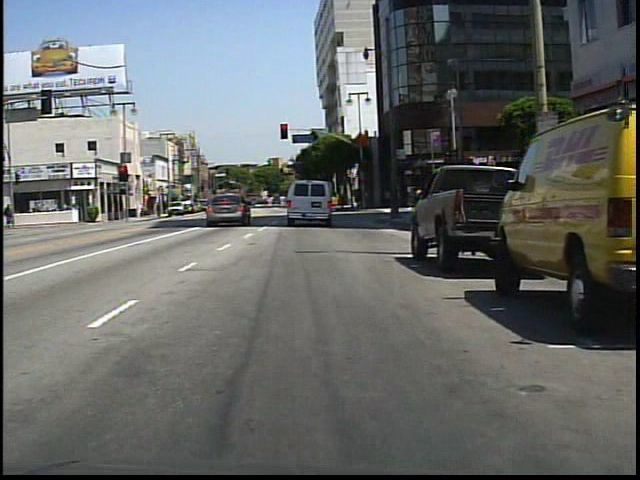person: (296, 186, 315, 222), (5, 202, 19, 230), (240, 193, 255, 218)
